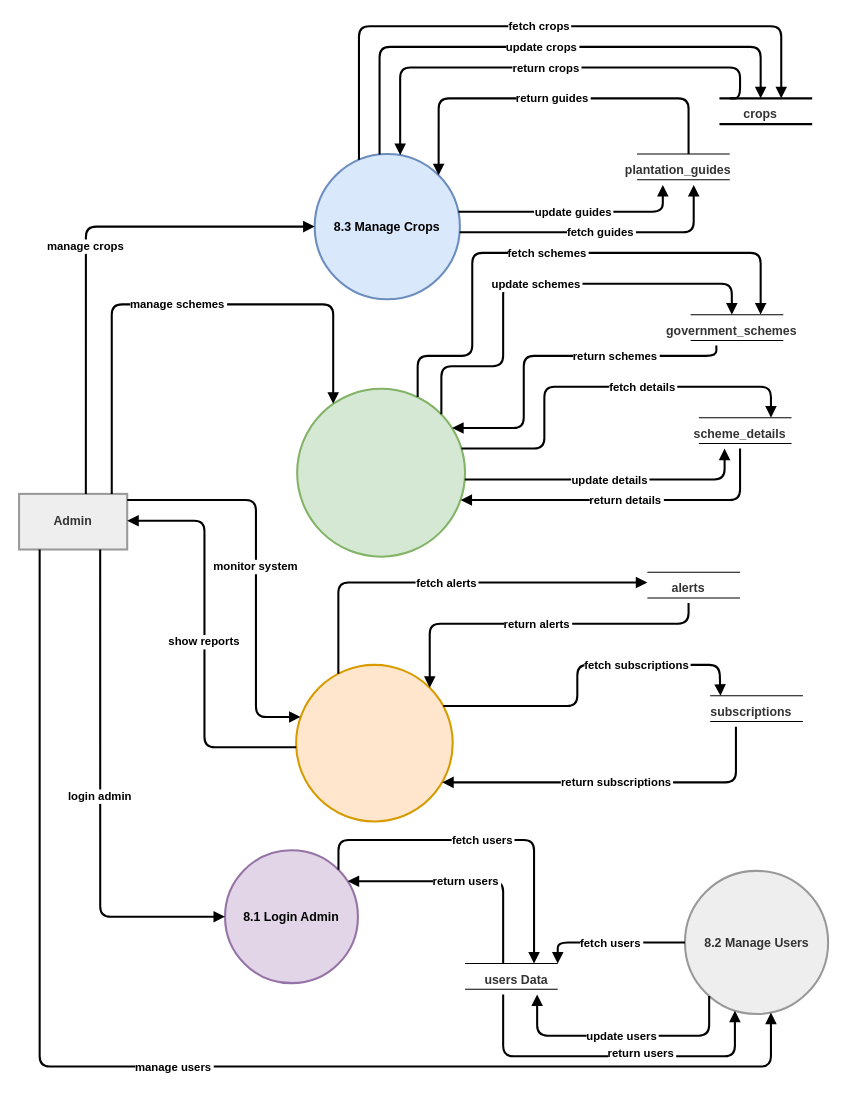
Image size: 847x1093. Some labels were removed from this diagram. Here are the shapes that lost their labels. From the top down, the centre of each, then its label:
At [381,472]: "8.4 Manage Schemes".
At [374,742]: "8.5 Monitor System".
